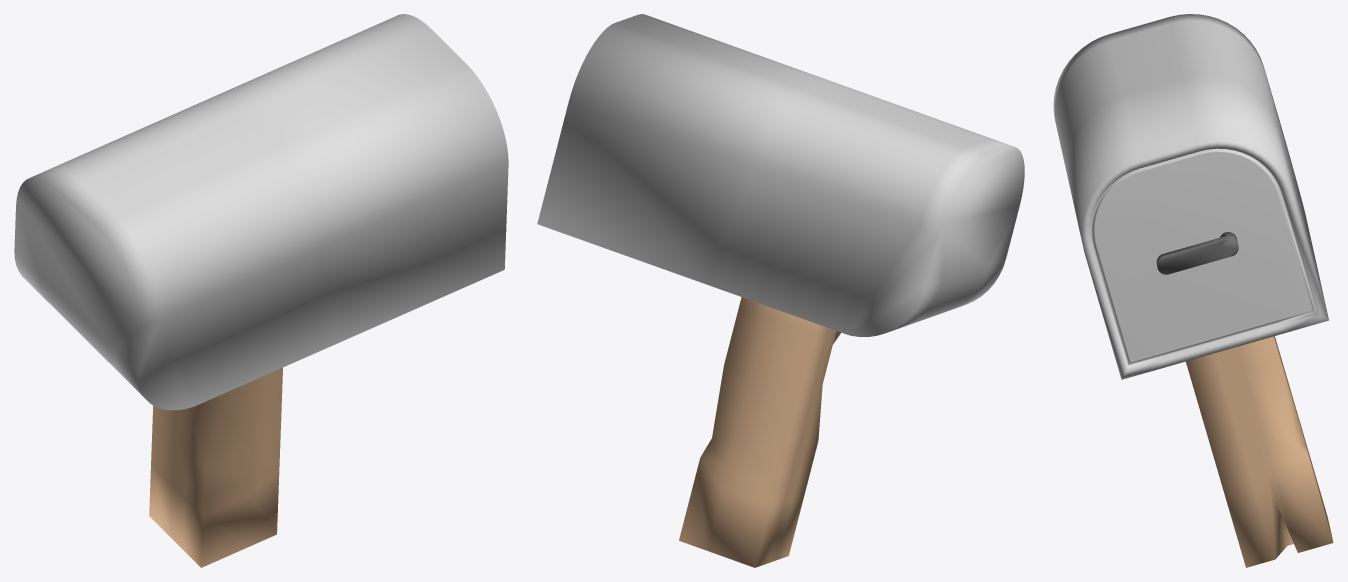
File: Mailbox-Simple-UnwrappedUVs.glb
The picture shows the model from 3 angles, left to right: view 1: azimuth 30°, elevation 25°; view 2: azimuth 150°, elevation 25°; view 3: azimuth 270°, elevation 25°; orthographic projection. The views are drawn at different scales.
Visible parts, largest first — view 1: Cylinder; view 2: Cylinder; view 3: Cylinder.
Part boxes in pixels (<box>): Cylinder: <box>14,14,508,567</box>; Cylinder: <box>537,14,1024,567</box>; Cylinder: <box>1053,14,1333,567</box>.
Size of the model in its own units: 2.18 by 2.5 by 1.26.
